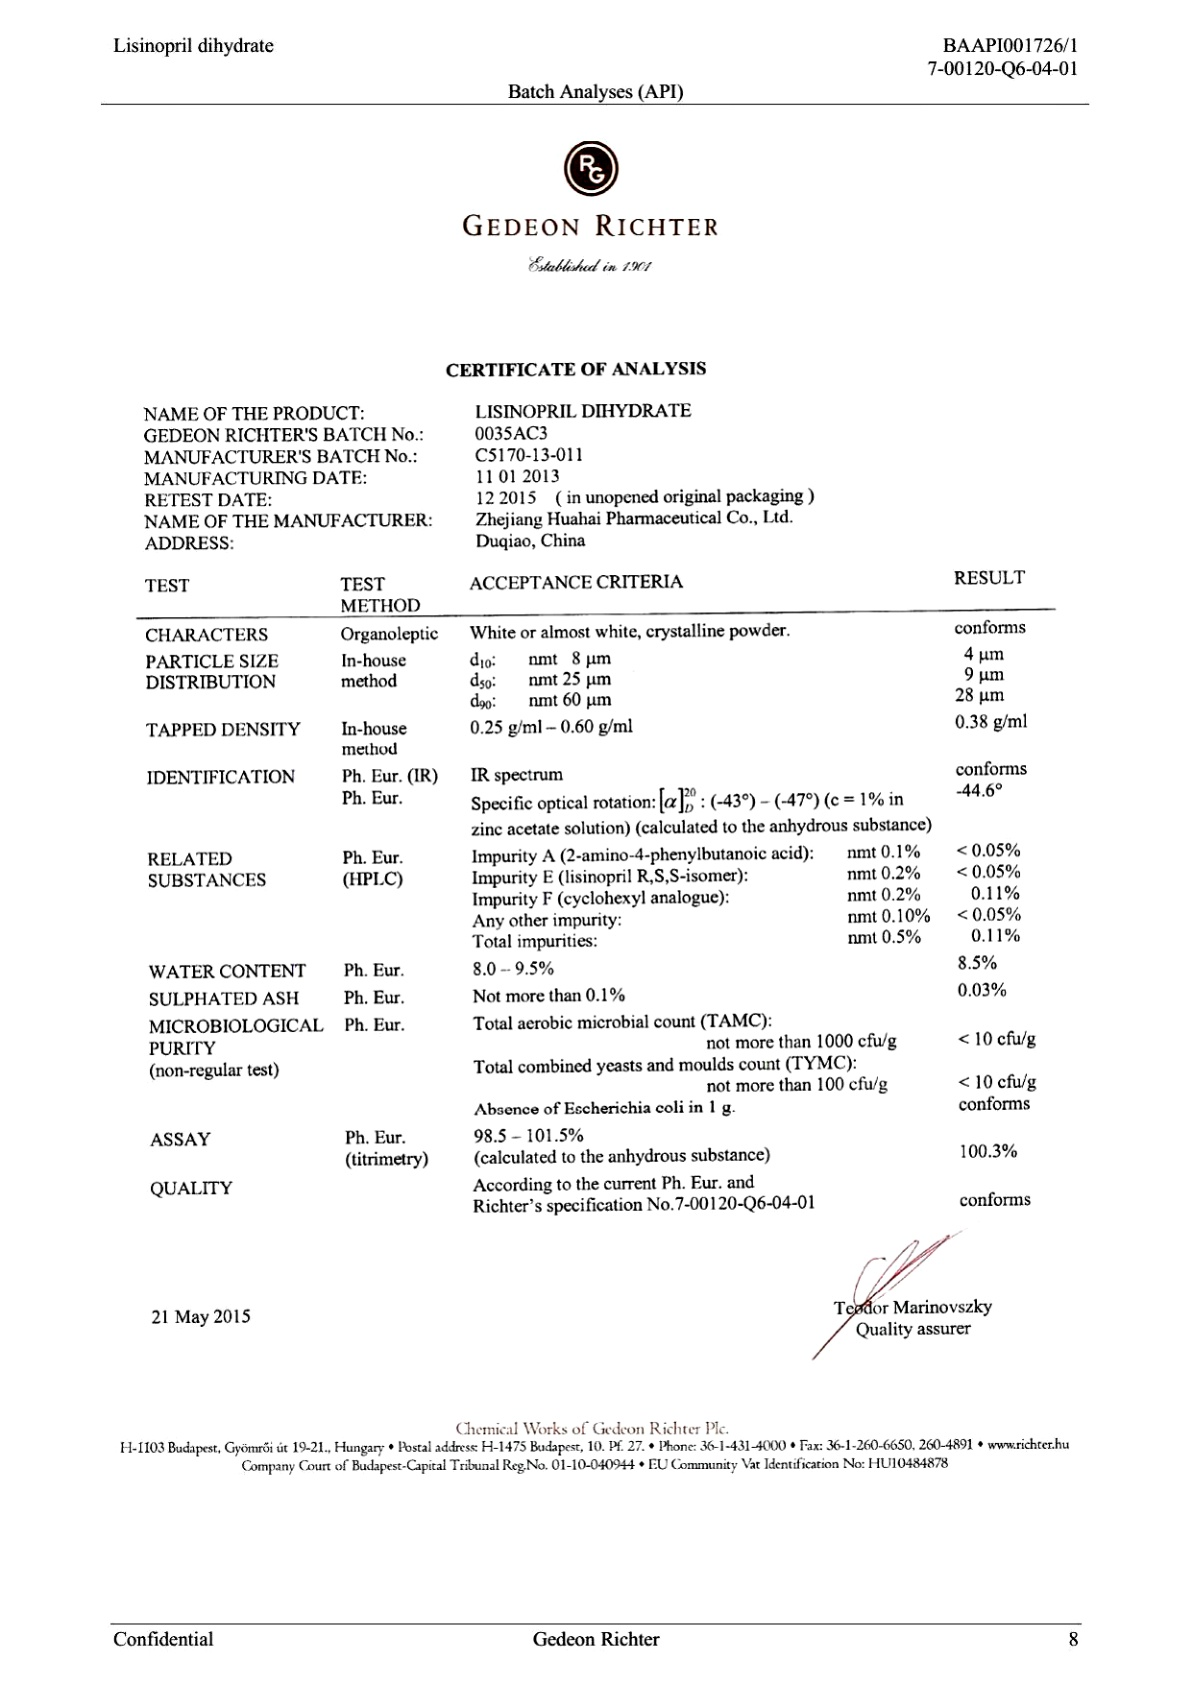nolines: (142, 398, 817, 553)
partial_lined: (137, 566, 1055, 1220)
